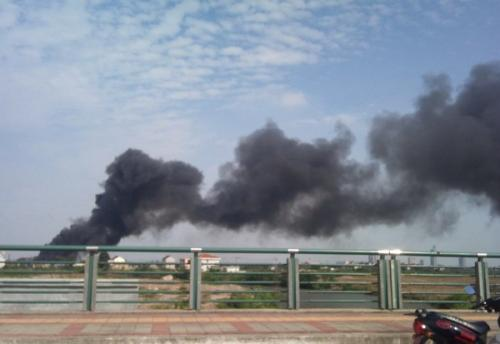smoke: (106, 79, 500, 215)
